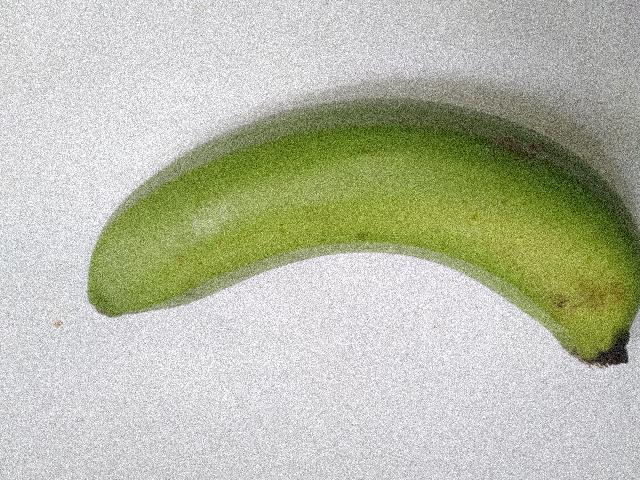freshunripe: (71, 87, 639, 384)
